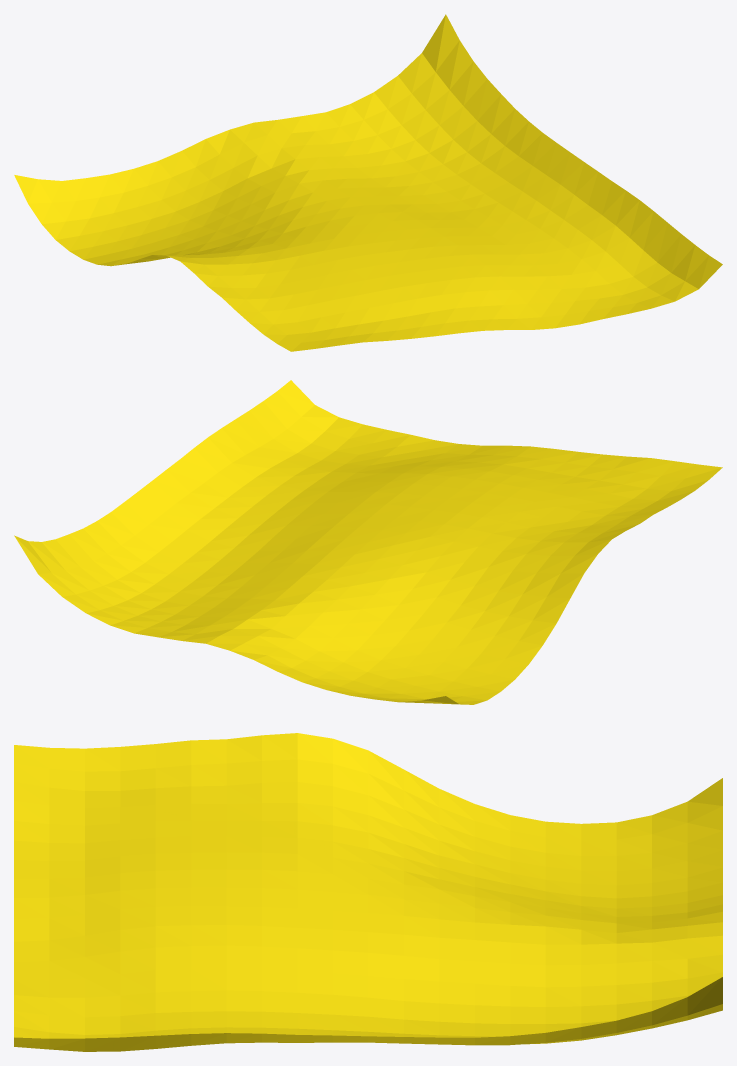
The model's file is hand0423g_palm_rectified_coordinates_aligned.obj.
3 renders of one model, top to bottom at view 1: azimuth 30°, elevation 25°; view 2: azimuth 150°, elevation 25°; view 3: azimuth 270°, elevation 25°, orthographic. The views are drawn at different scales.
Visible parts, largest first — view 1: palm_rectified_palm; view 2: palm_rectified_palm; view 3: palm_rectified_palm.
Boxes of the visible parts, x1,y1,x2,y2 form: palm_rectified_palm: [14, 14, 722, 351]; palm_rectified_palm: [14, 380, 722, 704]; palm_rectified_palm: [14, 733, 722, 1051].
Bounding box in the file's own units: 2.72 × 0.5604 × 3.03.
